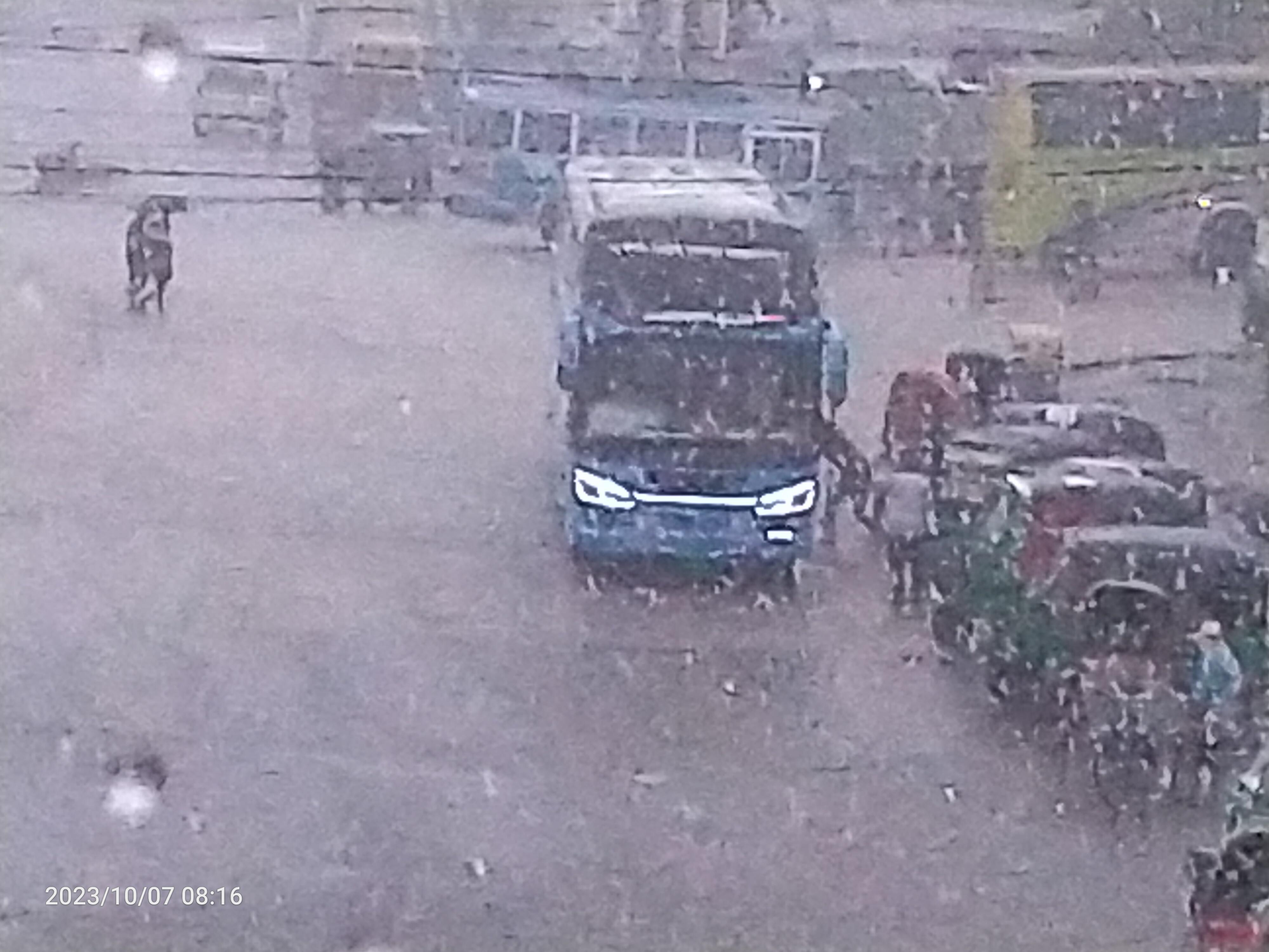Bus: (502, 133, 875, 640), (428, 59, 864, 267), (965, 30, 1269, 327)
Car: (1065, 568, 1201, 819), (873, 346, 952, 512), (979, 302, 1075, 423)
